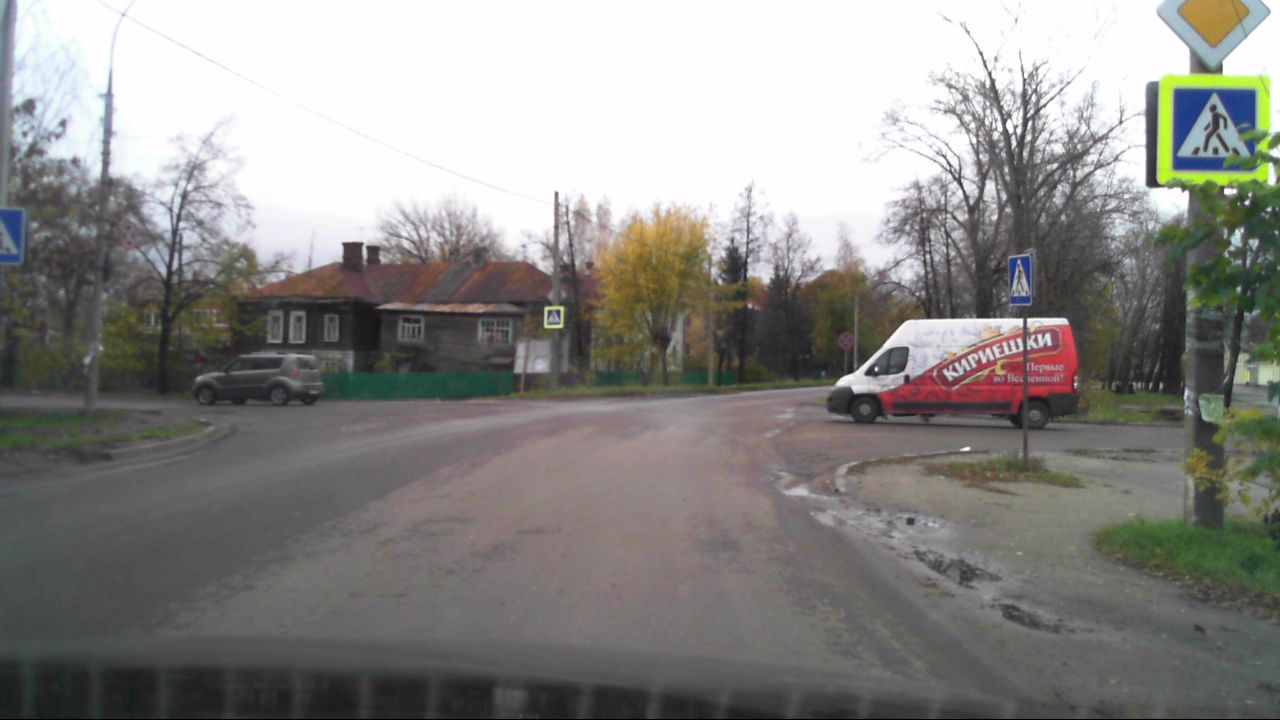No Parking: (837, 331, 855, 350)
